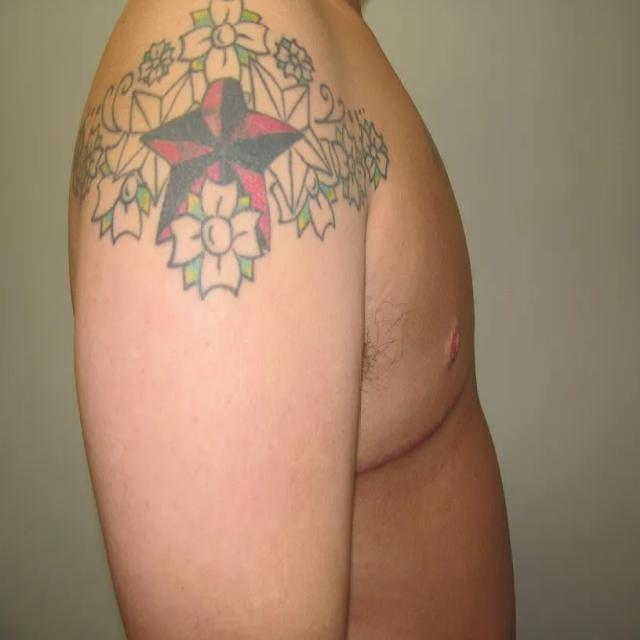Seno herido: (338, 107, 483, 501)
